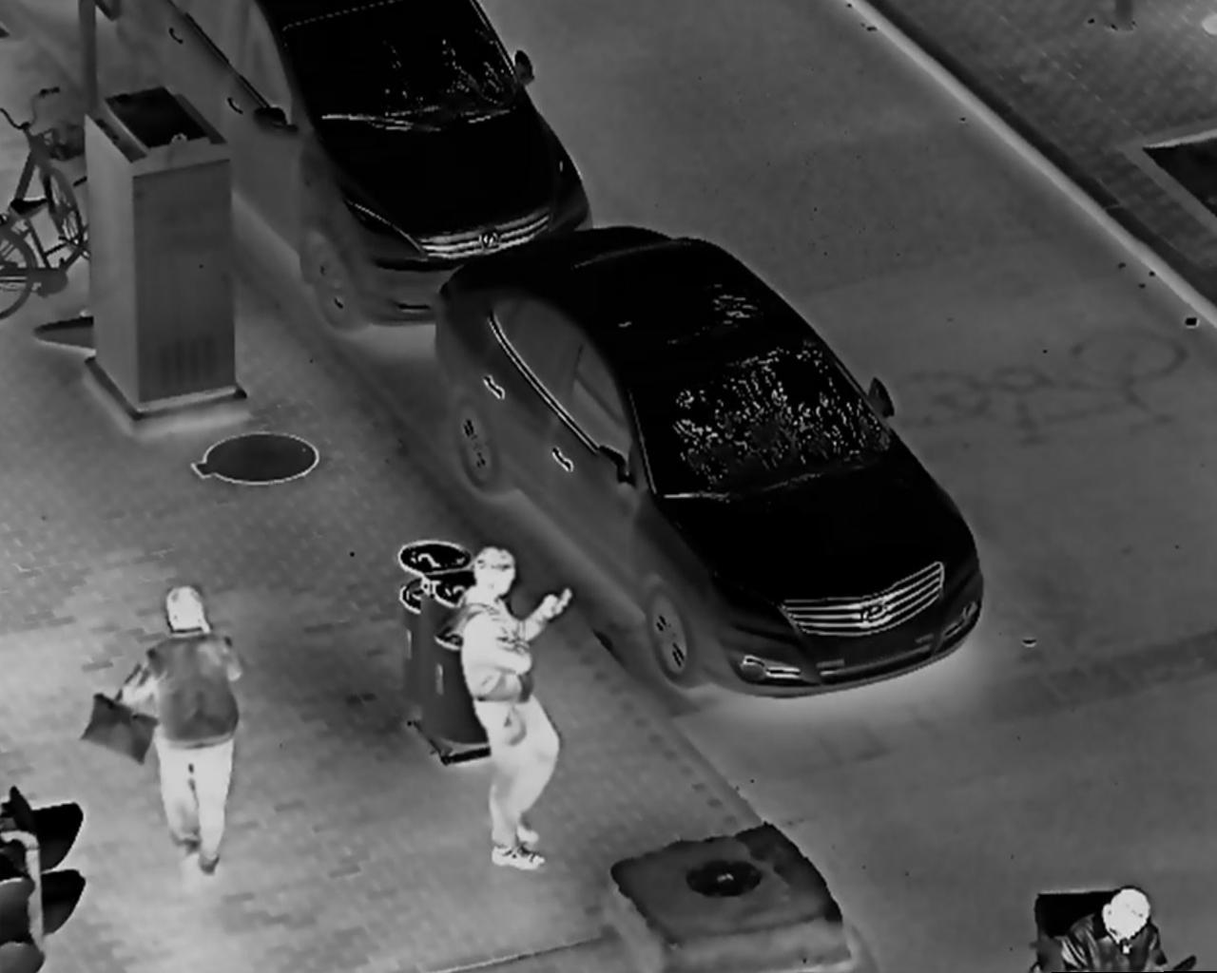person: (115, 582, 259, 881), (450, 537, 570, 872), (1059, 882, 1185, 973)
